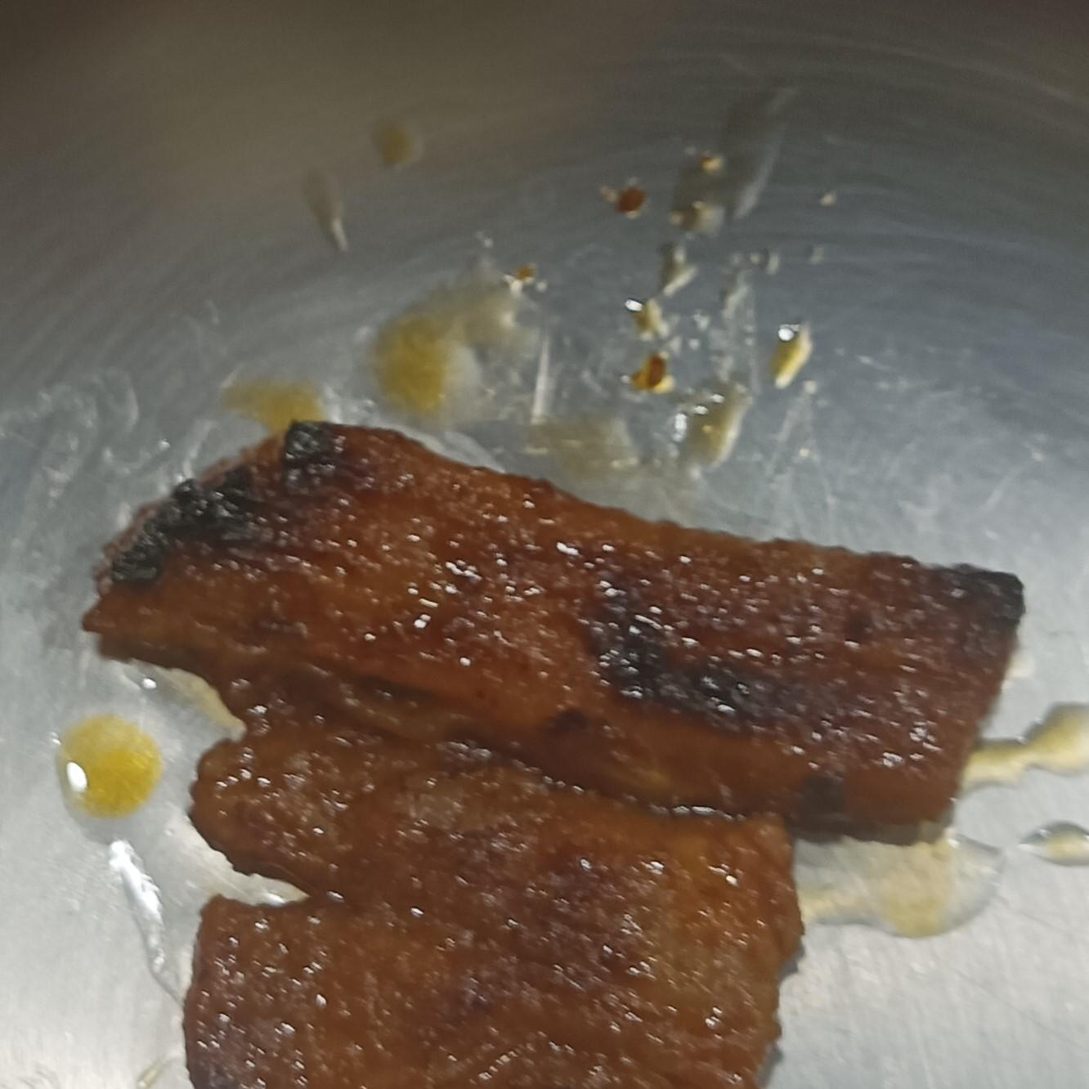Overcooked: (83, 422, 1024, 1088)
